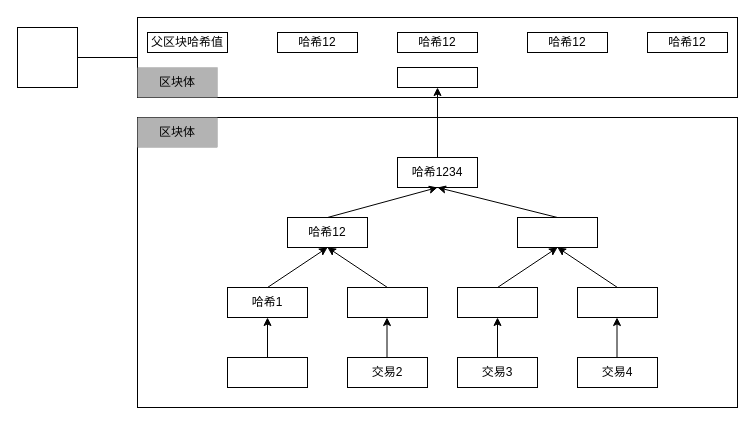
The diagram is 755 pixels wide and 425 high, and some of its shapes have lost their labels. Here are the shapes that lost their labels. From the top down, the centre of each, then its label:
At point 47,57: "父区块".
At point 437,77: "默克尔根".
At point 557,232: "哈希34".
At point 387,302: "哈希2".
At point 497,302: "哈希3".
At point 617,302: "哈希4".
At point 267,372: "交易1".
